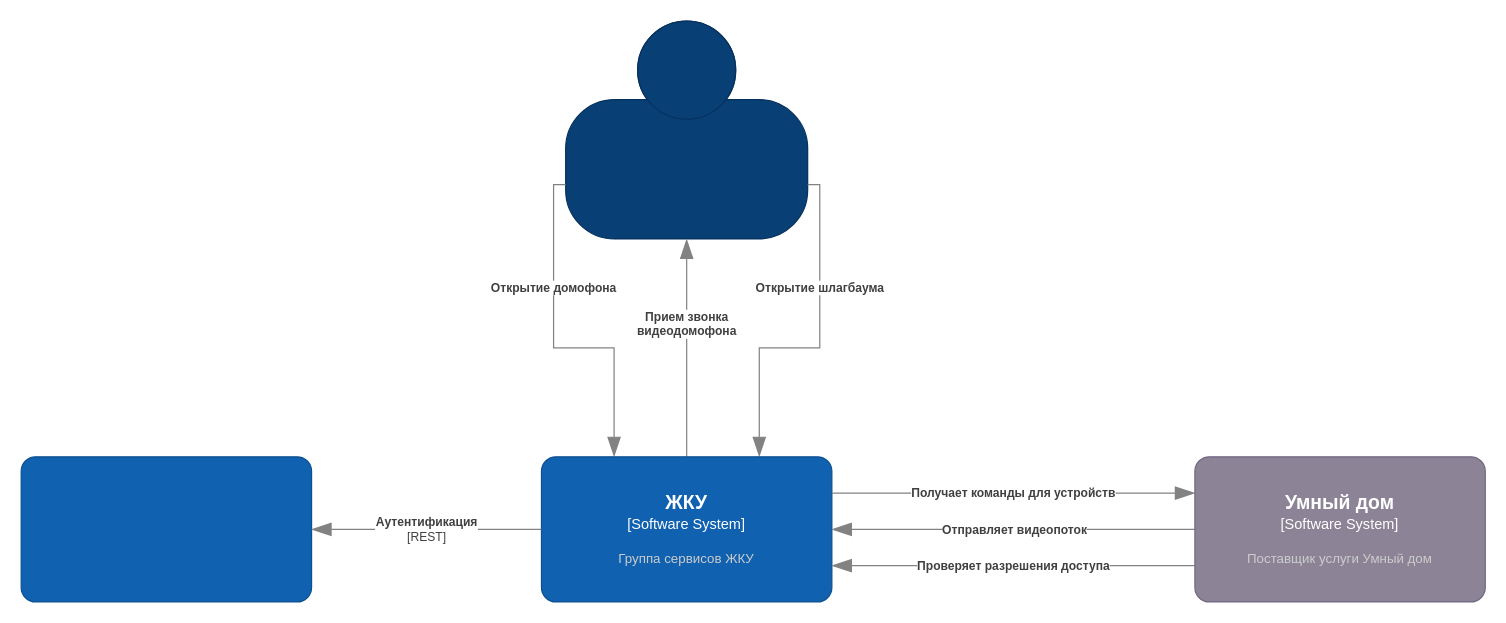
The diagram is 1506 pixels wide and 623 high, and some of its shapes have lost their labels. Here are the shapes that lost their labels. From the top down, the centre of each, then its label:
At point (686, 129): "Собственник [Person] Клиент".
At point (166, 529): "Аутентификация [Software System] Сервисы регистрации/аутентификации покупателей".
